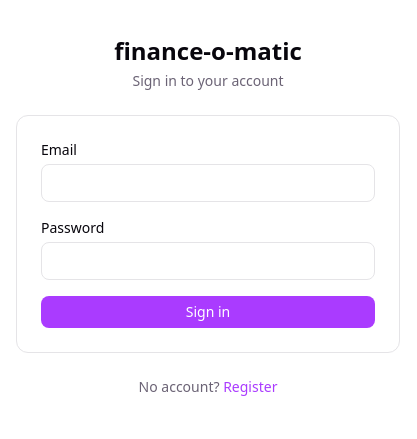
Test case: LoginPage › shows error message on login failure
In the field labelled "Email": point(208, 183) [41,164,375,202], type "user@example.com"
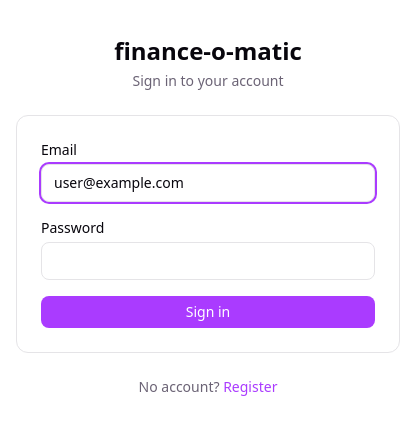
In the password field labelled "Password": point(208, 261) [41,242,375,280], type "wrong"
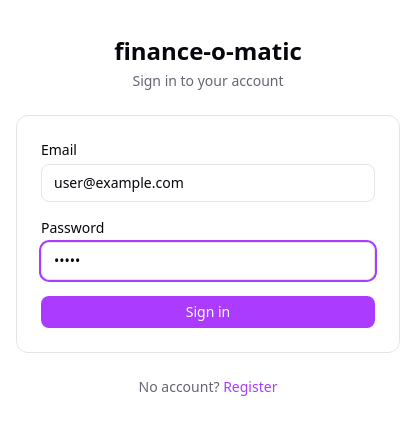
Click the button "Sign in": point(208, 312) [41,296,375,328]
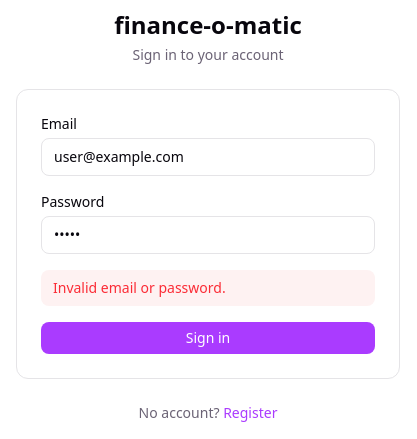
Expected: the message shows "Invalid email or password", [53,278,226,297]
